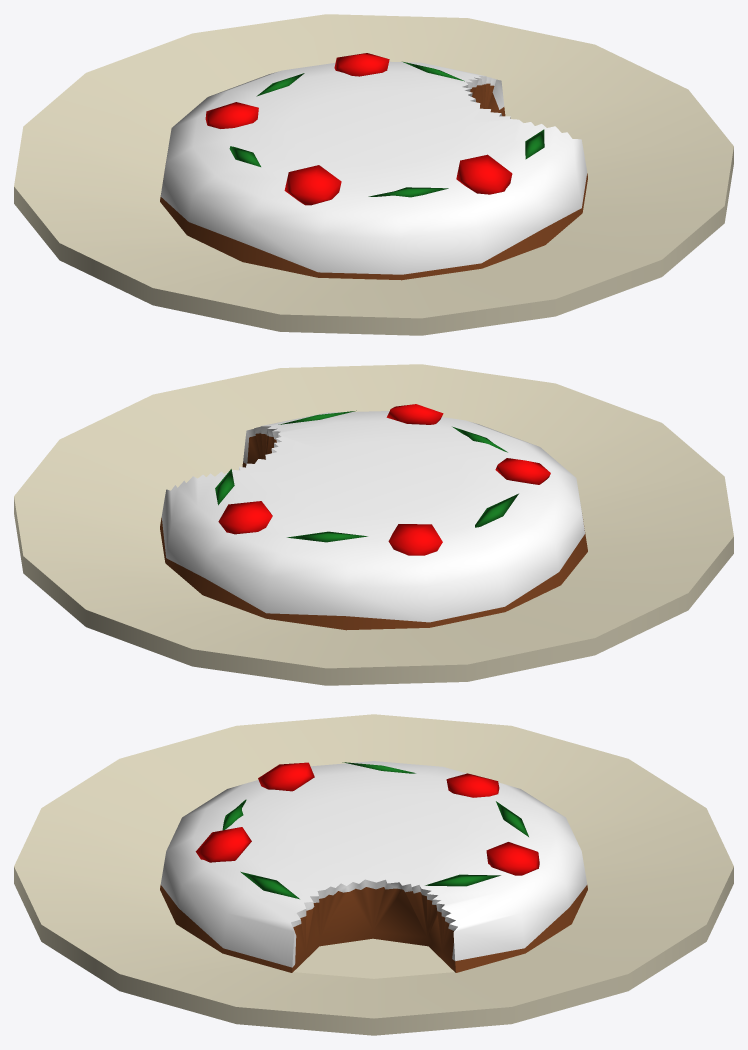
File: PithiviersRuined.fbx
3 renders of one model, top to bottom at view 1: azimuth 30°, elevation 25°; view 2: azimuth 150°, elevation 25°; view 3: azimuth 270°, elevation 25°, orthographic.
Visible parts, largest first — view 1: Pithiviers_Ruined; view 2: Pithiviers_Ruined; view 3: Pithiviers_Ruined.
Boxes of the visible parts, x1,y1,x2,y2 form: Pithiviers_Ruined: (14,14,733,335); Pithiviers_Ruined: (14,364,733,685); Pithiviers_Ruined: (14,714,733,1035).
Size of the model in its own units: 0.6488 by 0.6488 by 0.1105.
